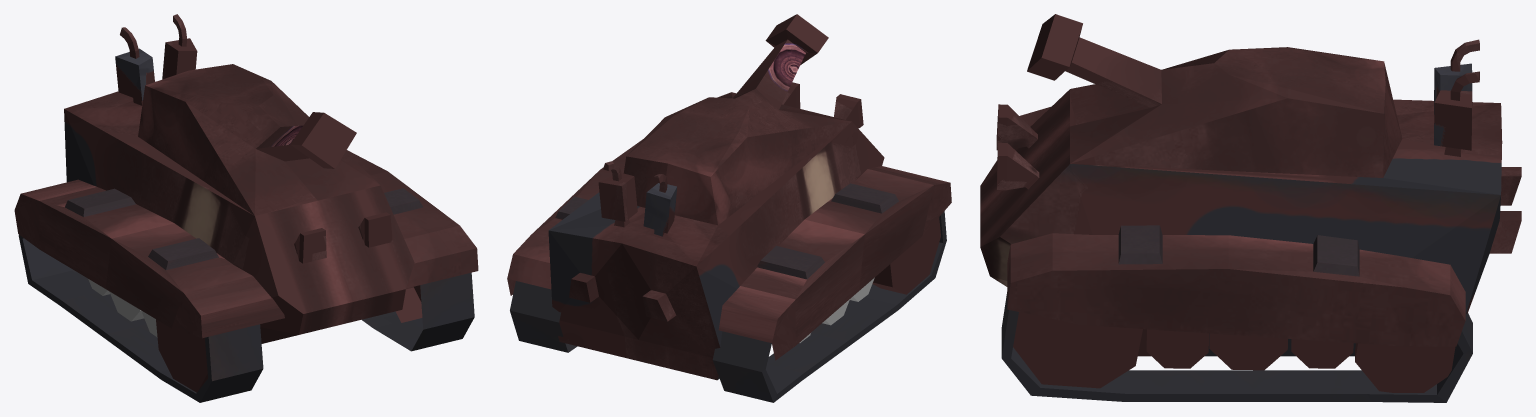
The model's file is tank4.fbx.
The picture shows the model from 3 angles, left to right: view 1: azimuth 30°, elevation 25°; view 2: azimuth 150°, elevation 25°; view 3: azimuth 270°, elevation 25°; orthographic projection. The views are drawn at different scales.
Visible parts, largest first — view 1: tank__1_:polySurface10, tank__1_:polySurface1, tank__1_:polySurface2, tank__1_:polySurface7, tank__1_:polySurface8, tank__1_:pCylinder17, tank__1_:pCylinder11, tank__1_:pCylinder19; view 2: tank__1_:polySurface10, tank__1_:polySurface1, tank__1_:polySurface2, tank__1_:polySurface7, tank__1_:polySurface8, tank__1_:pCylinder17; view 3: tank__1_:polySurface10, tank__1_:polySurface7, tank__1_:polySurface8, tank__1_:pCylinder11, tank__1_:pCylinder15, tank__1_:pCylinder13, tank__1_:pCylinder16, tank__1_:pCylinder14.
Boxes of the visible parts, box(x1,y1,x2,y2) form: tank__1_:polySurface10: box(64, 14, 414, 343); tank__1_:polySurface1: box(14, 179, 284, 338); tank__1_:polySurface2: box(18, 235, 263, 402); tank__1_:polySurface7: box(345, 150, 478, 288); tank__1_:polySurface8: box(361, 272, 474, 351); tank__1_:pCylinder17: box(156, 319, 207, 392); tank__1_:pCylinder11: box(395, 285, 422, 322); tank__1_:pCylinder19: box(109, 291, 143, 321); tank__1_:polySurface10: box(548, 14, 884, 380); tank__1_:polySurface1: box(718, 166, 951, 360); tank__1_:polySurface2: box(712, 211, 946, 402); tank__1_:polySurface7: box(507, 139, 642, 295); tank__1_:polySurface8: box(510, 281, 577, 352); tank__1_:pCylinder17: box(872, 217, 940, 294); tank__1_:polySurface10: box(980, 14, 1521, 356); tank__1_:polySurface7: box(1007, 225, 1465, 346); tank__1_:polySurface8: box(1001, 292, 1472, 402); tank__1_:pCylinder11: box(1013, 312, 1142, 388); tank__1_:pCylinder15: box(1355, 343, 1455, 392); tank__1_:pCylinder13: box(1209, 333, 1287, 370); tank__1_:pCylinder16: box(1146, 329, 1208, 368); tank__1_:pCylinder14: box(1291, 339, 1353, 368).
Bounding box in the file's own units: 8.83 × 7.8 × 12.28.
